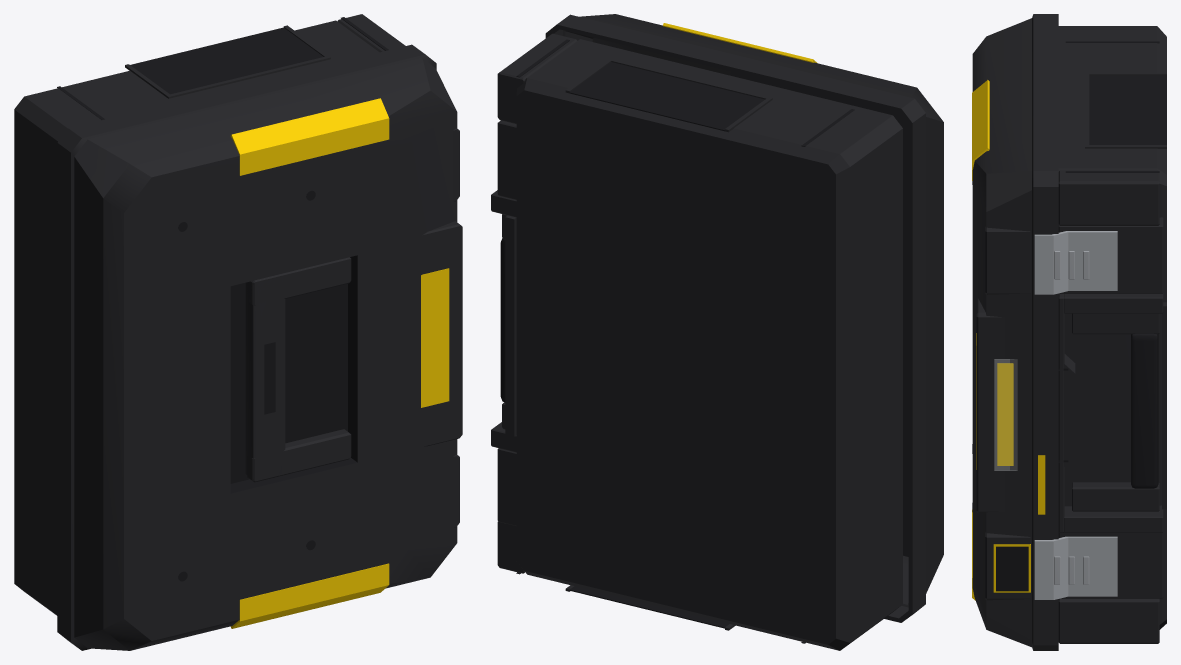
The model's file is DWST83345.glb.
3 renders of one model, left to right at view 1: azimuth 30°, elevation 25°; view 2: azimuth 150°, elevation 25°; view 3: azimuth 270°, elevation 25°, orthographic. The views are drawn at different scales.
Visible parts, largest first — view 1: vicko_plast, korpus_vana, vicko_kapsa, drzadlo_hmat, hak_stoh_p, bok_kapsa_p, ostruvek, hak_stoh_l, logo_dewalt, drzadlo_rameno_l, drzadlo_rameno_p, celo_sloupek_p (+2 smaller); view 2: korpus_vana, vicko_plast, bok_kapsa_p, kapsa_dno, celo_sloupek_p, celo_zona_p, celo_zona_l, bok_kapsa_l, celo_sloupek_l, madlo_hmatnice, hak_stoh_p, bok_ramecek_h_p; view 3: vicko_plast, korpus_vana, celo_sloupek_p, bok_kapsa_p, ostruvek, celo_sloupek_l, zamek_l, zamek_p, madlo_hmatnice, celo_zona_p, celo_zona_l, sloupek_p (+17 smaller).
Boxes of the visible parts, x1,y1,x2,y2 form: vicko_plast: (57, 44, 457, 650); korpus_vana: (14, 20, 379, 615); vicko_kapsa: (230, 255, 357, 493); drzadlo_hmat: (245, 274, 285, 479); hak_stoh_p: (230, 98, 389, 175); bok_kapsa_p: (130, 27, 323, 94); ostruvek: (422, 221, 462, 446); hak_stoh_l: (230, 563, 389, 628); logo_dewalt: (421, 268, 449, 407); drzadlo_rameno_l: (247, 429, 351, 482); drzadlo_rameno_p: (247, 257, 351, 305); celo_sloupek_p: (337, 14, 405, 52); korpus_vana: (516, 39, 902, 650); vicko_plast: (545, 14, 943, 622); bok_kapsa_p: (569, 62, 764, 131); kapsa_dno: (505, 215, 516, 436); celo_sloupek_p: (497, 33, 576, 123); celo_zona_p: (497, 120, 516, 199); celo_zona_l: (497, 448, 516, 525); bok_kapsa_l: (569, 586, 729, 628); celo_sloupek_l: (497, 521, 524, 573); madlo_hmatnice: (500, 238, 505, 402); hak_stoh_p: (663, 23, 817, 63); bok_ramecek_h_p: (608, 58, 772, 101); vicko_plast: (972, 14, 1058, 650); korpus_vana: (1058, 26, 1166, 629); celo_sloupek_p: (1058, 170, 1159, 225); bok_kapsa_p: (1089, 75, 1166, 144); ostruvek: (976, 297, 1004, 513); celo_sloupek_l: (1058, 598, 1159, 643); zamek_l: (1034, 536, 1117, 599); zamek_p: (1034, 231, 1117, 294); madlo_hmatnice: (1131, 333, 1158, 488); celo_zona_p: (1058, 217, 1163, 293); celo_zona_l: (1058, 532, 1163, 598); sloupek_p: (985, 226, 1030, 294).
Size of the model in its own units: 333 by 440 by 162.
